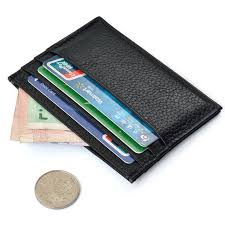monedero: (8, 17, 222, 183)
